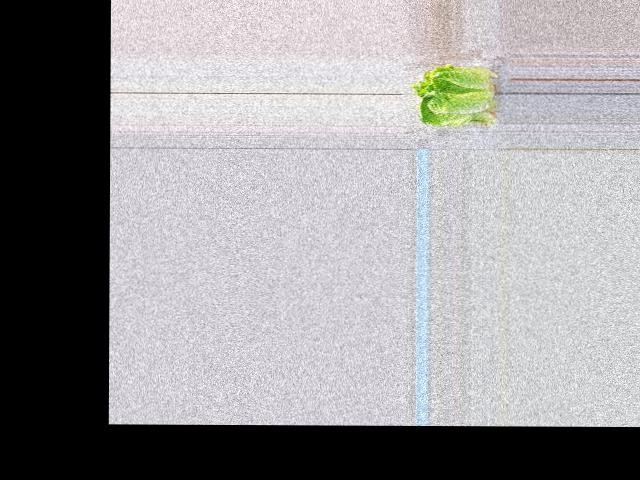lettuce: (412, 64, 493, 126)
